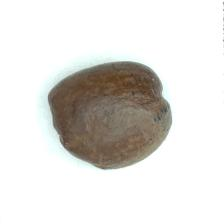NG: (48, 96, 106, 175)
